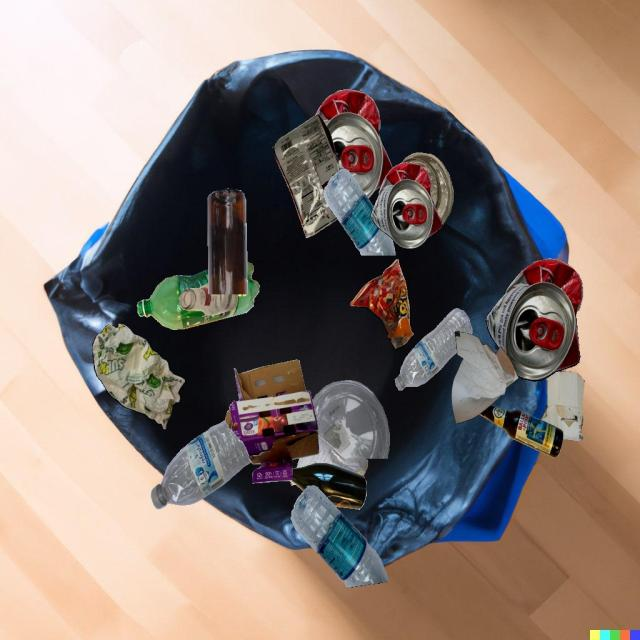cardboard: (225, 360, 319, 483), (541, 371, 585, 440)
glass: (480, 405, 564, 458), (207, 188, 248, 294), (402, 152, 453, 226), (288, 463, 367, 509), (179, 283, 238, 316)
metal: (486, 258, 583, 381), (315, 89, 393, 199), (371, 162, 442, 250)
paper: (92, 323, 185, 430), (451, 331, 519, 424), (296, 435, 368, 476)
plastic: (291, 485, 388, 588), (151, 420, 251, 509), (137, 262, 260, 330), (273, 114, 339, 238), (395, 308, 472, 391), (323, 169, 395, 256), (312, 380, 390, 459)
trash: (349, 259, 414, 349)
